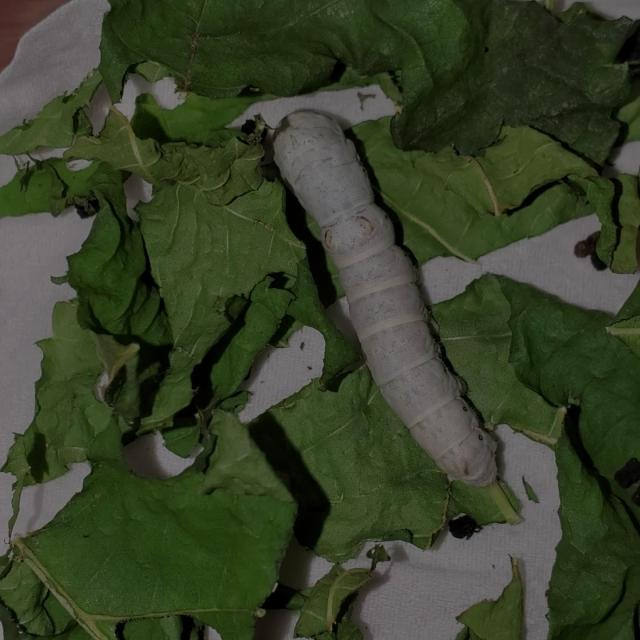Healthy: (265, 98, 511, 496)
